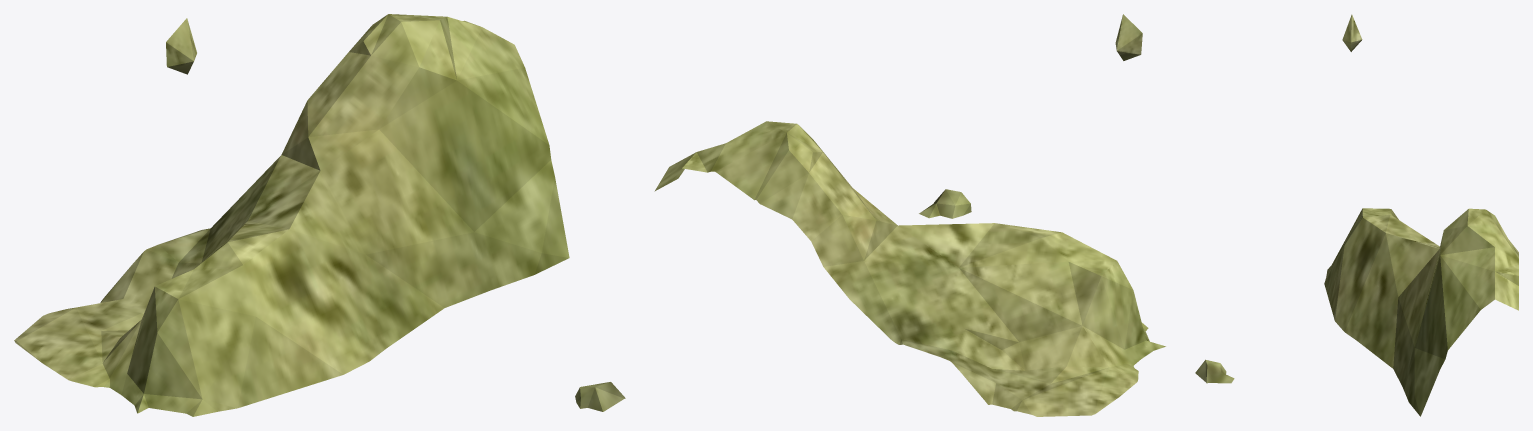
3 views of the same model, side by side, from view 1: azimuth 30°, elevation 25°; view 2: azimuth 150°, elevation 25°; view 3: azimuth 270°, elevation 25° (orthographic). The views are drawn at different scales.
Bounding box in the file's own units: 2.29 × 1.66 × 1.88.
Materials: 1 (1 with a texture image).
